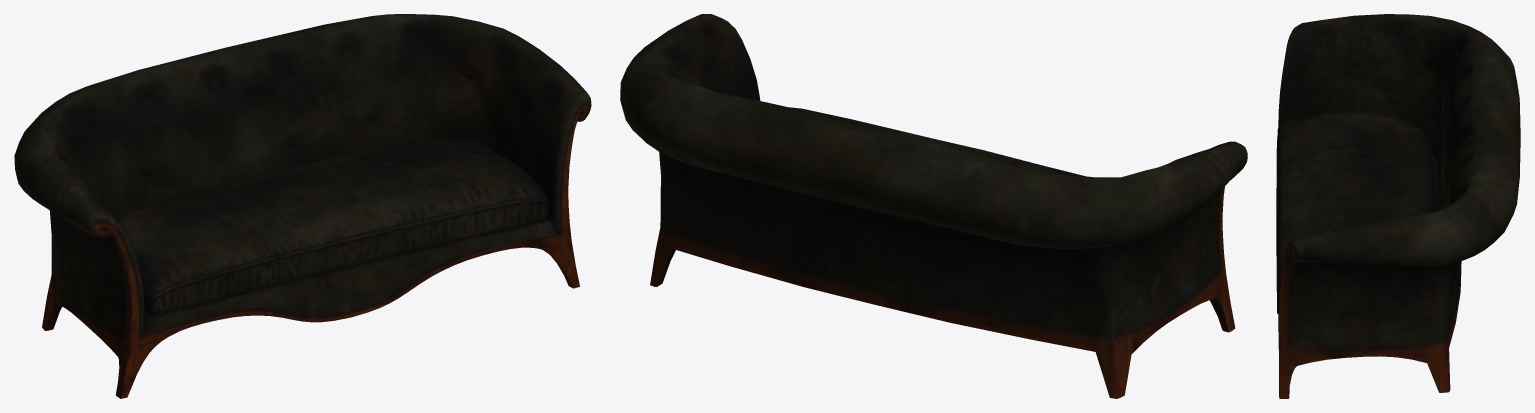
Rendered from canape.glb.
3 renders of one model, left to right at view 1: azimuth 30°, elevation 25°; view 2: azimuth 150°, elevation 25°; view 3: azimuth 270°, elevation 25°, orthographic. The views are drawn at different scales.
Visible parts, largest first — view 1: sofa_02_Base, sofa_02_Seat; view 2: sofa_02_Base, sofa_02_Seat; view 3: sofa_02_Base, sofa_02_Seat.
Part boxes in pixels (x1,y1,x2,y2): sofa_02_Base: [14, 14, 591, 398]; sofa_02_Seat: [115, 139, 549, 314]; sofa_02_Base: [620, 14, 1247, 398]; sofa_02_Seat: [789, 107, 1086, 176]; sofa_02_Base: [1278, 14, 1520, 398]; sofa_02_Seat: [1276, 112, 1433, 313].
Size of the model in its own units: 1.76 by 0.6918 by 0.7973.
1 material, 1 textured.
